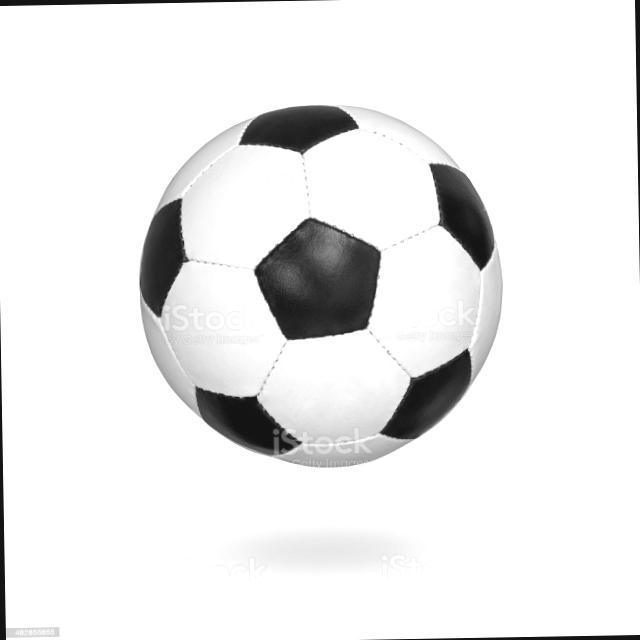Soccer Ball: (135, 99, 506, 472)
